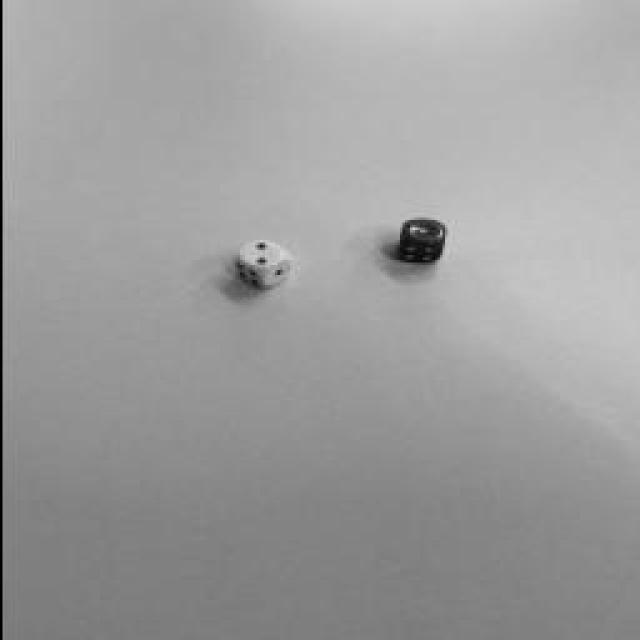dice_1: (401, 218, 444, 242)
dice_2: (238, 242, 282, 266)
